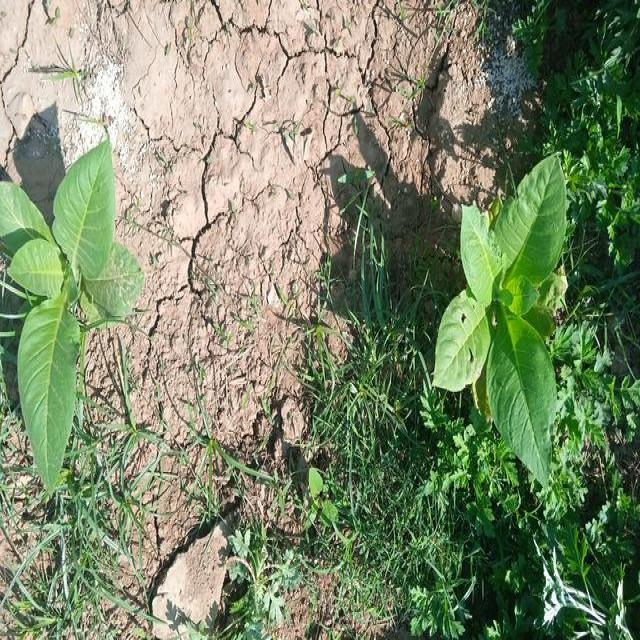crop: (0, 155, 138, 477), (442, 156, 566, 476)
